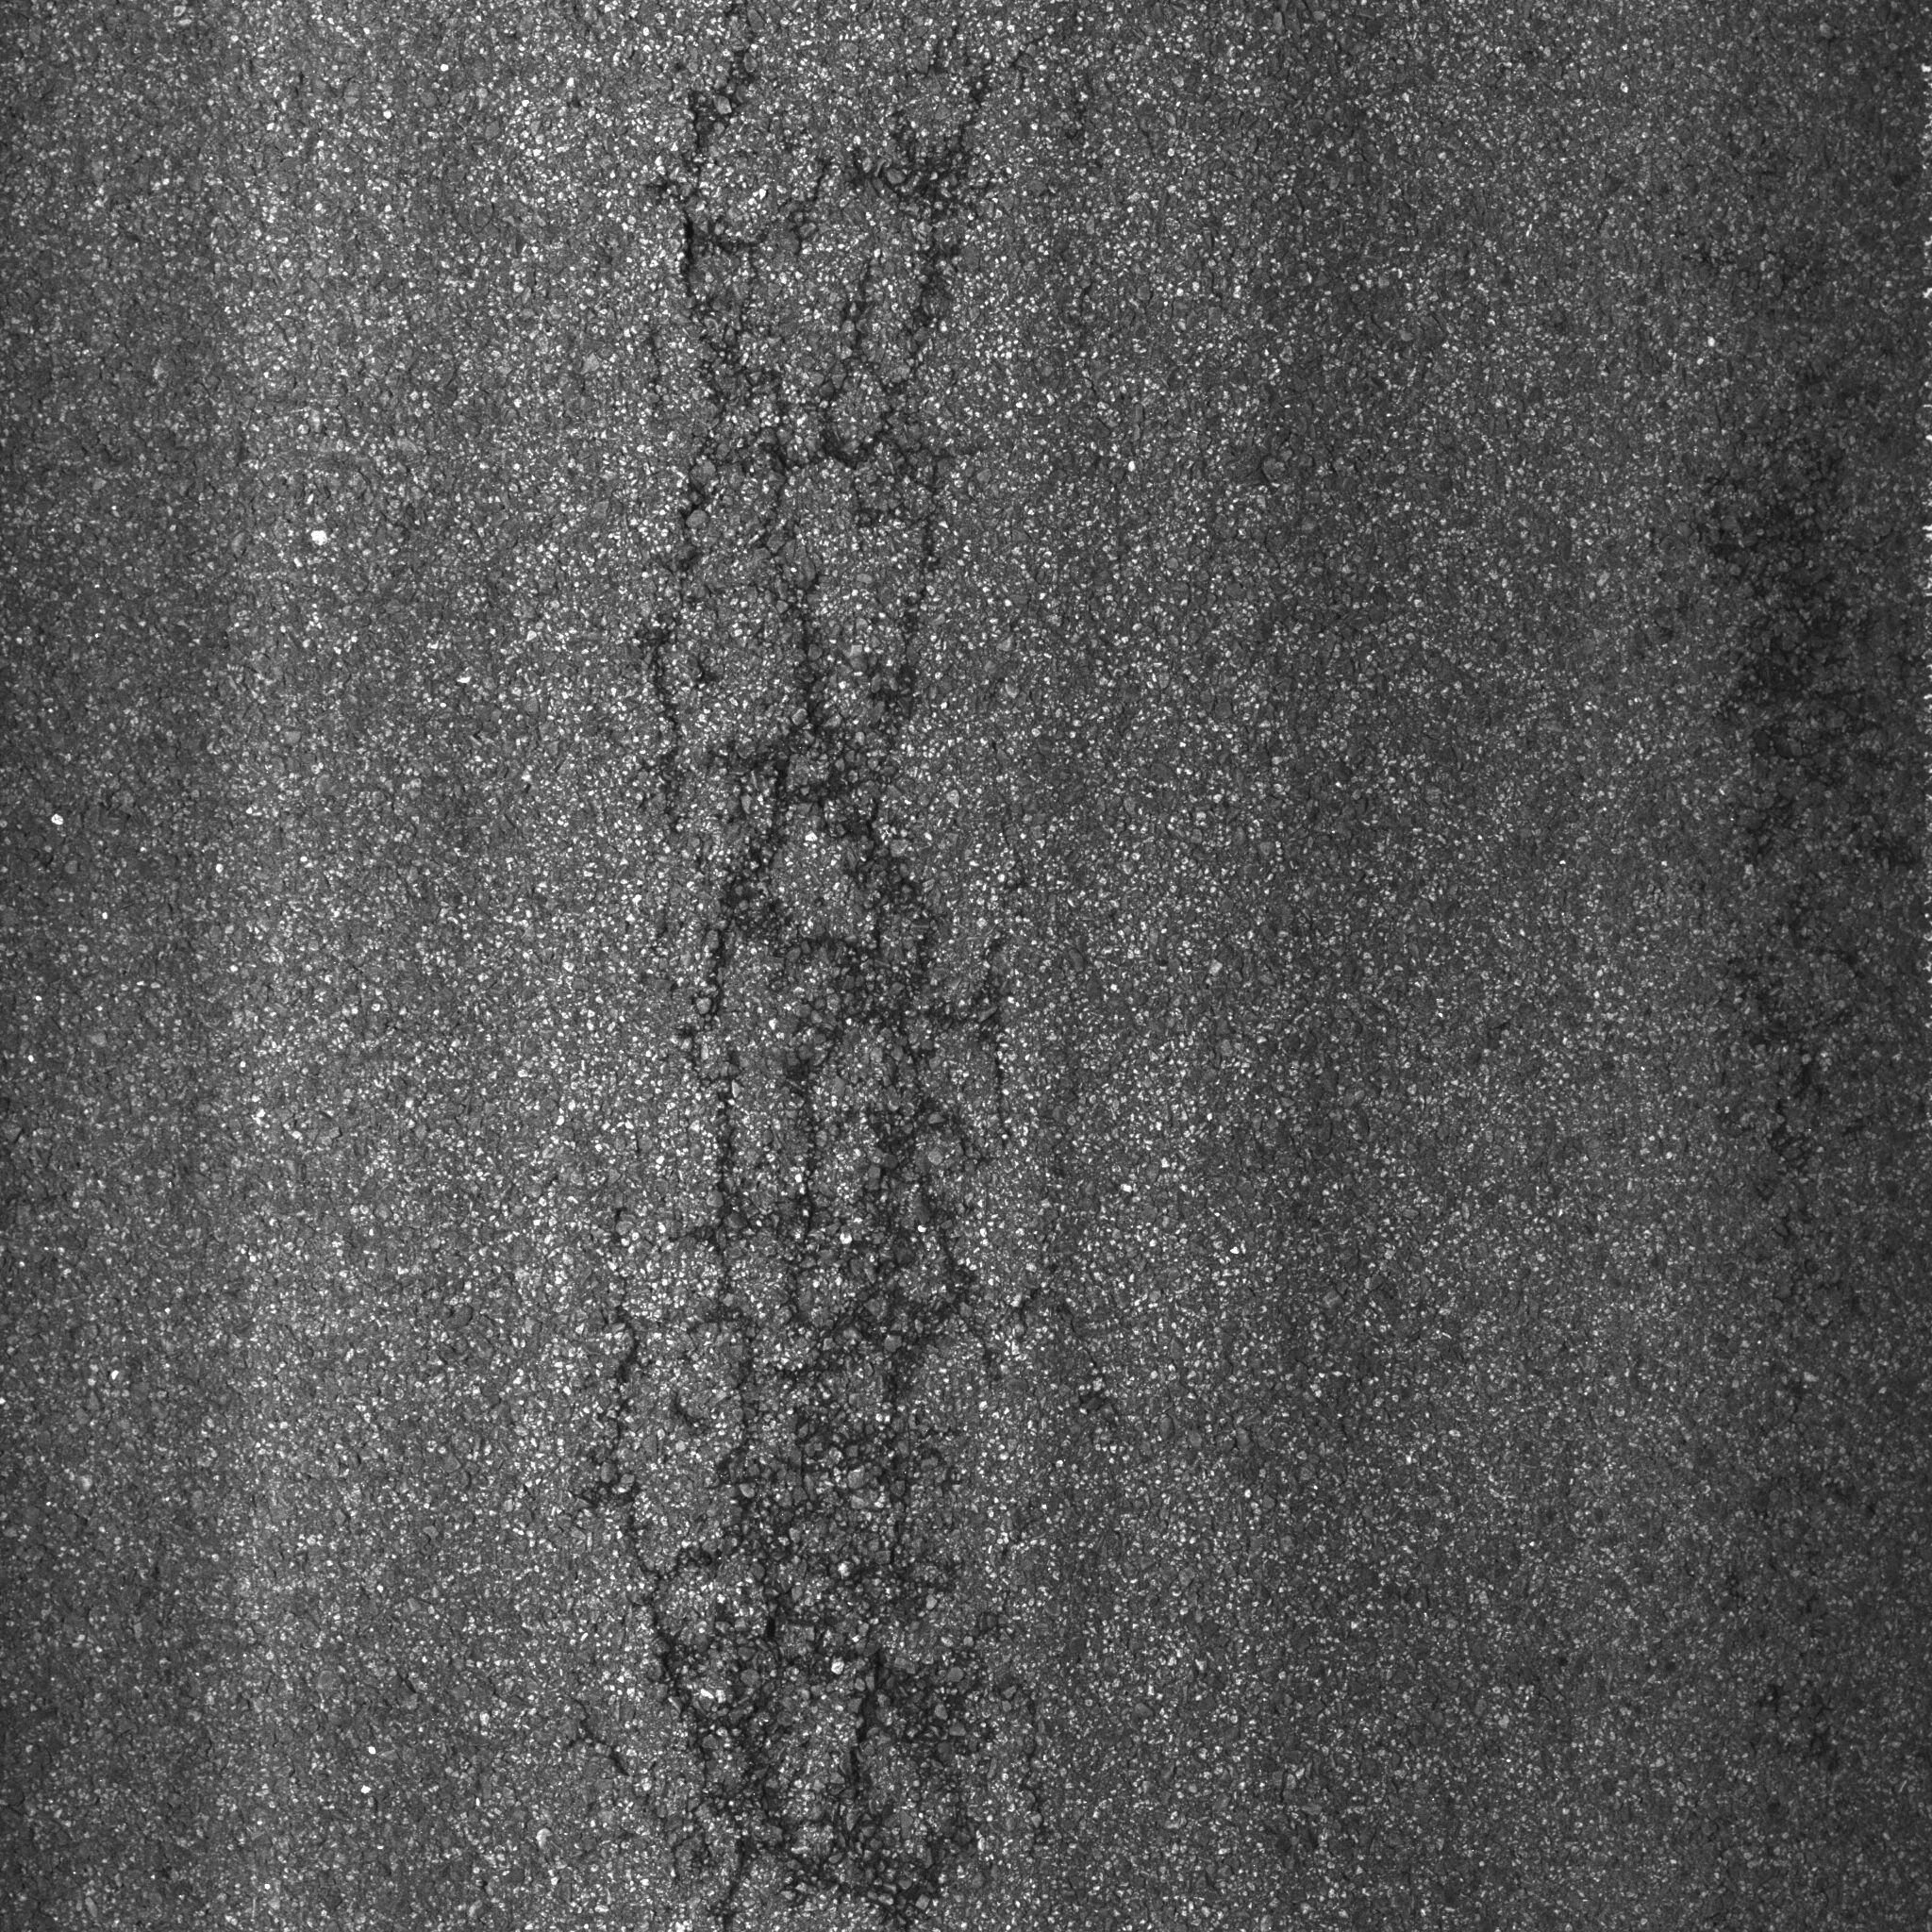alligator: (485, 4, 1212, 1932)
